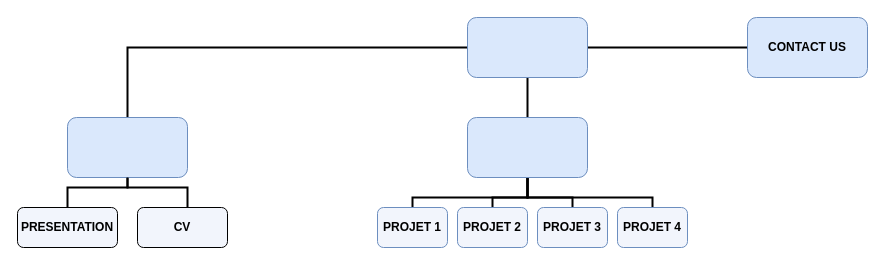
This 885x265 diagram has some shape labels left out. The shapes that lost their labels are listed below. From the top down, each one's centre as x and y in pixels, then its label:
[527,47]: HOMEPAGE
[127,147]: ABOUT US
[527,147]: PORFOLIO
